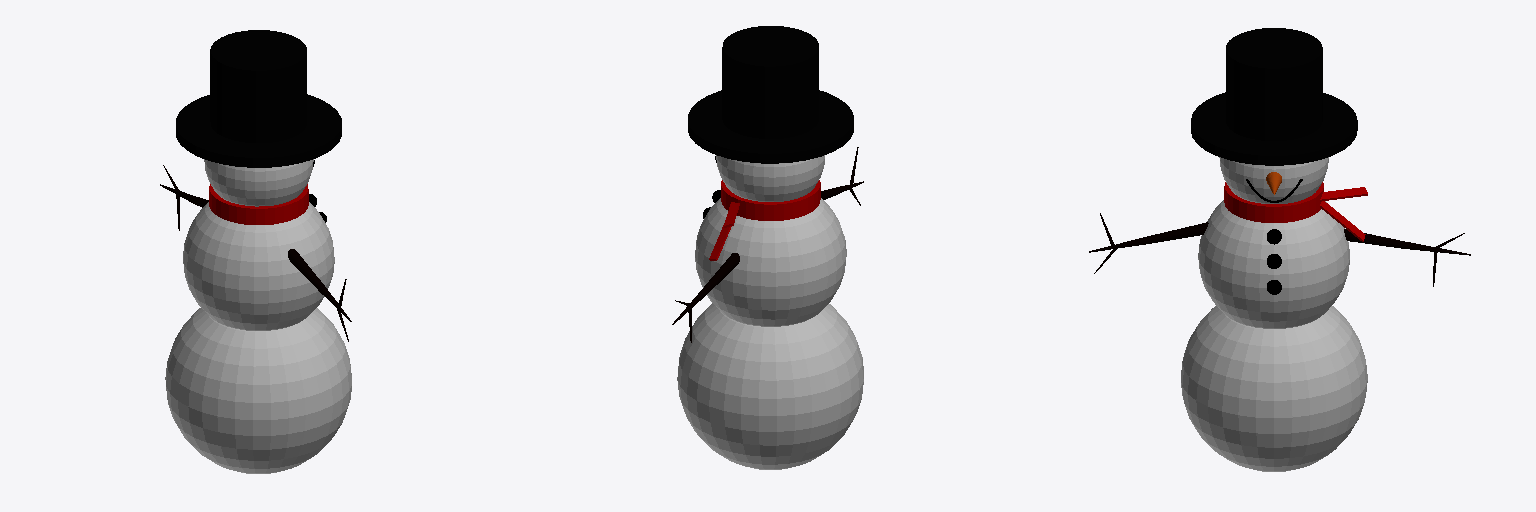
The model's file is TriSnowMan.obj.
3 views of the same model, side by side, from view 1: azimuth 30°, elevation 25°; view 2: azimuth 150°, elevation 25°; view 3: azimuth 270°, elevation 25° (orthographic).
Visible parts, largest first — view 1: Sphere, Cylinder, Sphere.001, Sphere.002, Cylinder.007, Cylinder.005; view 2: Sphere, Cylinder, Sphere.001, Sphere.002, Cylinder.007, Cylinder.005; view 3: Sphere, Cylinder, Sphere.001, Sphere.002, Cylinder.007, Cylinder.005, Sphere.003.
Part boxes in pixels (x1,y1,x2,y2): Sphere: (165, 308, 351, 473); Cylinder: (176, 30, 341, 167); Sphere.001: (183, 202, 334, 330); Sphere.002: (204, 159, 313, 206); Cylinder.007: (209, 184, 308, 224); Cylinder.005: (160, 165, 351, 341); Sphere: (677, 303, 863, 469); Cylinder: (688, 26, 853, 163); Sphere.001: (695, 198, 846, 326); Sphere.002: (716, 155, 824, 201); Cylinder.007: (709, 180, 820, 260); Cylinder.005: (672, 147, 863, 342); Sphere: (1181, 306, 1367, 471); Cylinder: (1191, 28, 1357, 165); Sphere.001: (1198, 200, 1349, 328); Sphere.002: (1219, 157, 1328, 203); Cylinder.007: (1224, 182, 1367, 241); Cylinder.005: (1089, 213, 1470, 286); Sphere.003: (1267, 229, 1281, 294).
Bounding box in the file's own units: 4.83 × 11.81 × 9.84.